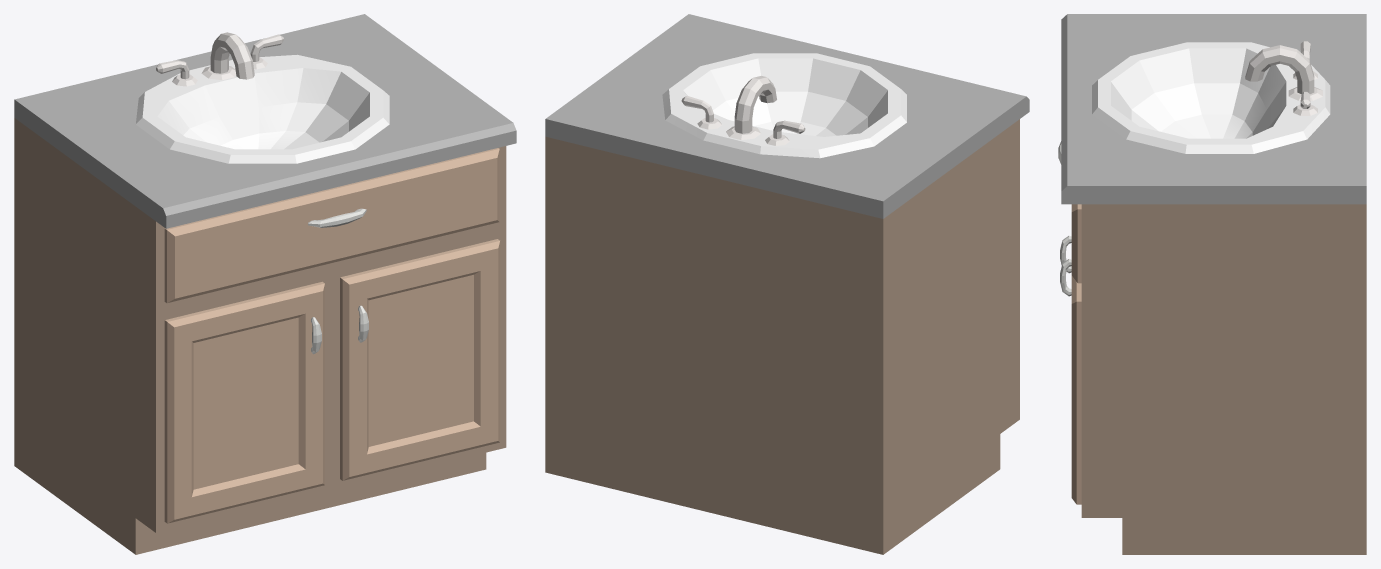
Rendered from SinkWithCabinet.fbx.
3 views of the same model, side by side, from view 1: azimuth 30°, elevation 25°; view 2: azimuth 150°, elevation 25°; view 3: azimuth 270°, elevation 25° (orthographic). The views are drawn at different scales.
Visible parts, largest first — view 1: object5, object3, object6, object1, object10, object9; view 2: object5, object3, object10, object9; view 3: object5, object3, object10, object1, object9.
Part boxes in pixels (<box>): object5: <box>14,118,506,554</box>; object3: <box>14,14,516,228</box>; object6: <box>164,281,324,523</box>; object1: <box>340,239,500,480</box>; object10: <box>135,54,389,163</box>; object9: <box>201,32,254,80</box>; object5: <box>545,119,1019,554</box>; object3: <box>545,14,1029,218</box>; object10: <box>662,53,906,158</box>; object9: <box>726,75,776,139</box>; object5: <box>1071,204,1366,554</box>; object3: <box>1061,14,1366,204</box>; object10: <box>1092,42,1330,153</box>; object1: <box>1071,275,1081,504</box>; object9: <box>1245,45,1322,100</box>.
Size of the model in its own units: 100 by 114 by 75.75.
